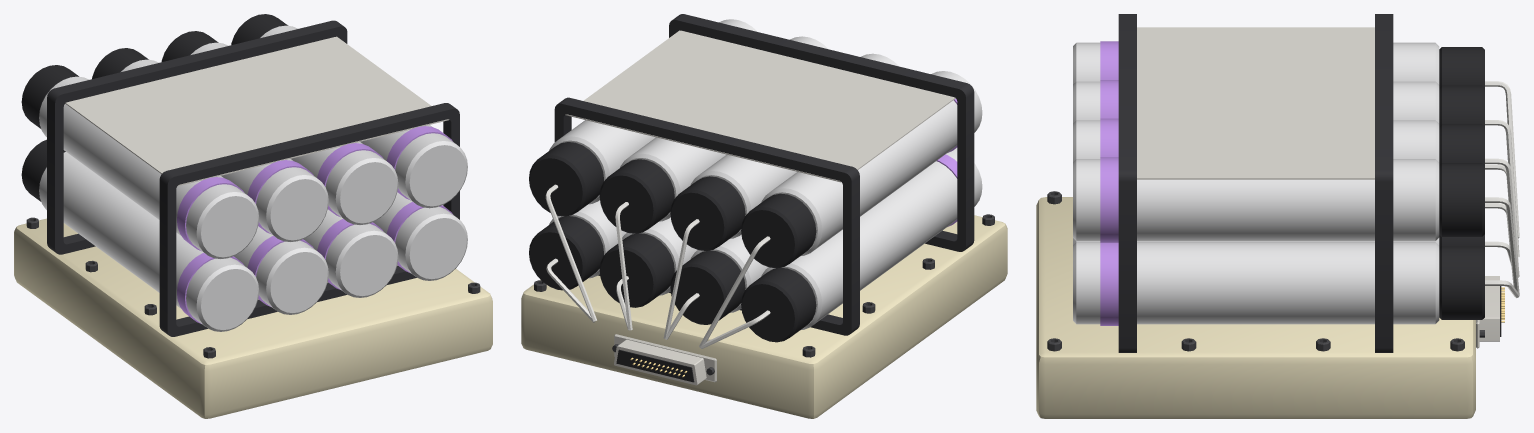
Rendered from neutron_spectrometer.glb.
3 views of the same model, side by side, from view 1: azimuth 30°, elevation 25°; view 2: azimuth 150°, elevation 25°; view 3: azimuth 270°, elevation 25° (orthographic). The views are drawn at different scales.
Parts seen in each view (by area): view 1: neutron_spectrometer; view 2: neutron_spectrometer; view 3: neutron_spectrometer.
Boxes of the visible parts, x1,y1,x2,y2 form: neutron_spectrometer: (14,14,492,418); neutron_spectrometer: (521,14,1007,418); neutron_spectrometer: (1036,14,1519,418).
Bounding box in the file's own units: 0.084 × 0.06 × 0.1056.
